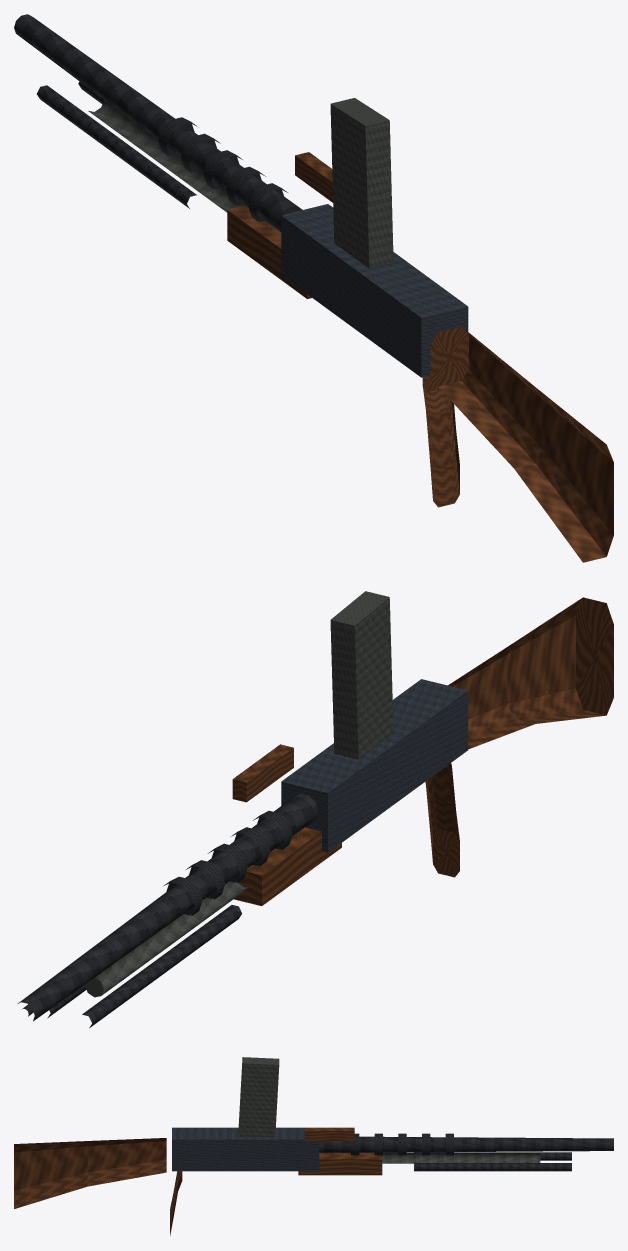
3 renders of one model, top to bottom at view 1: azimuth 30°, elevation 25°; view 2: azimuth 150°, elevation 25°; view 3: azimuth 270°, elevation 25°, orthographic. The views are drawn at different scales.
Parts seen in each view (by area): view 1: WeaponMesh; view 2: WeaponMesh; view 3: WeaponMesh.
Part boxes in pixels (x1=…): WeaponMesh: x1=14, y1=14, x2=613, y2=562; WeaponMesh: x1=17, y1=591, x2=613, y2=1028; WeaponMesh: x1=14, y1=1057, x2=613, y2=1235.
Bounding box in the file's own units: 0.076 × 0.3658 × 1.14.
Materials: 4 (4 with a texture image).
